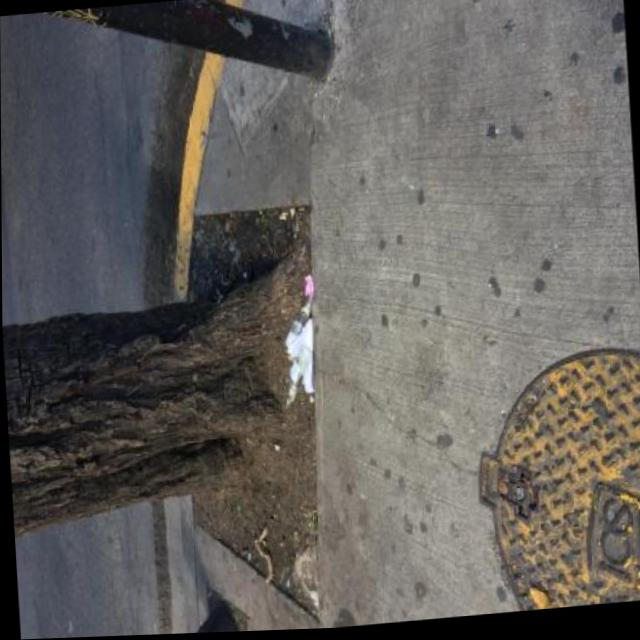glass: (283, 345, 318, 410), (282, 296, 319, 355)
